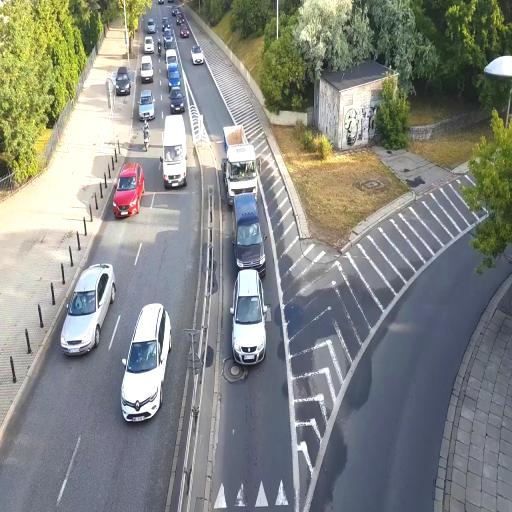vehicle: (224, 126, 267, 275), (120, 303, 172, 424), (59, 262, 116, 357), (231, 269, 268, 366), (232, 190, 266, 274), (223, 124, 258, 203), (112, 159, 145, 219), (163, 113, 187, 189), (137, 92, 155, 122), (114, 67, 132, 95), (169, 87, 186, 114), (138, 55, 154, 83), (191, 44, 205, 66)
